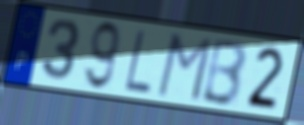2: (245, 46, 287, 114)
3: (40, 17, 84, 84)
9: (83, 19, 122, 93)
B: (198, 37, 249, 109)
L: (123, 27, 153, 96)
M: (154, 31, 215, 104)
